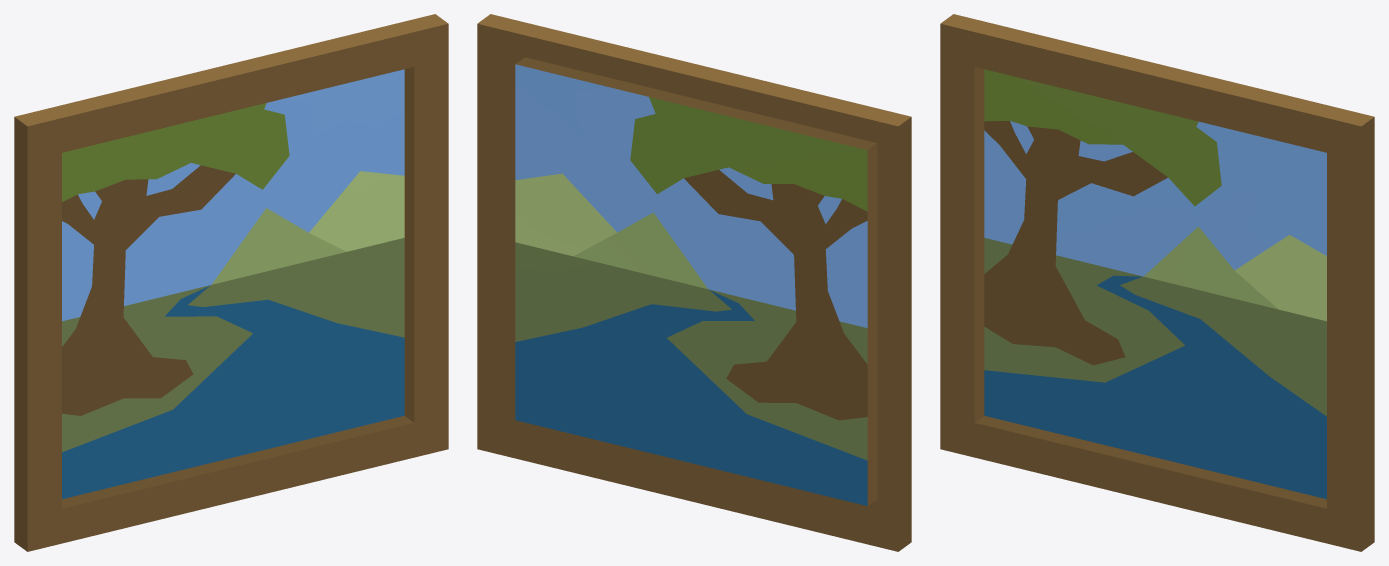
The model's file is Painting.glb.
3 renders of one model, left to right at view 1: azimuth 30°, elevation 25°; view 2: azimuth 150°, elevation 25°; view 3: azimuth 330°, elevation 25°, orthographic.
Visible parts, largest first — view 1: SO_Painting_01; view 2: SO_Painting_01; view 3: SO_Painting_01.
Boxes of the visible parts, x1,y1,x2,y2 form: SO_Painting_01: (14,14,448,551); SO_Painting_01: (477,14,911,551); SO_Painting_01: (940,14,1374,551).
Size of the model in its own units: 0.00801 by 0.00773 by 0.000437.
1 material, 1 textured.
